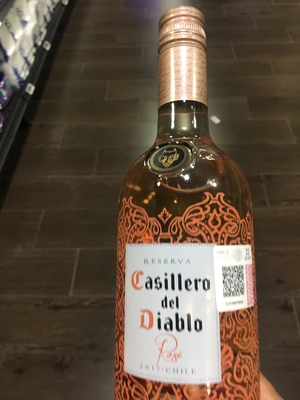casillero del diablo rose: (107, 19, 277, 396)
